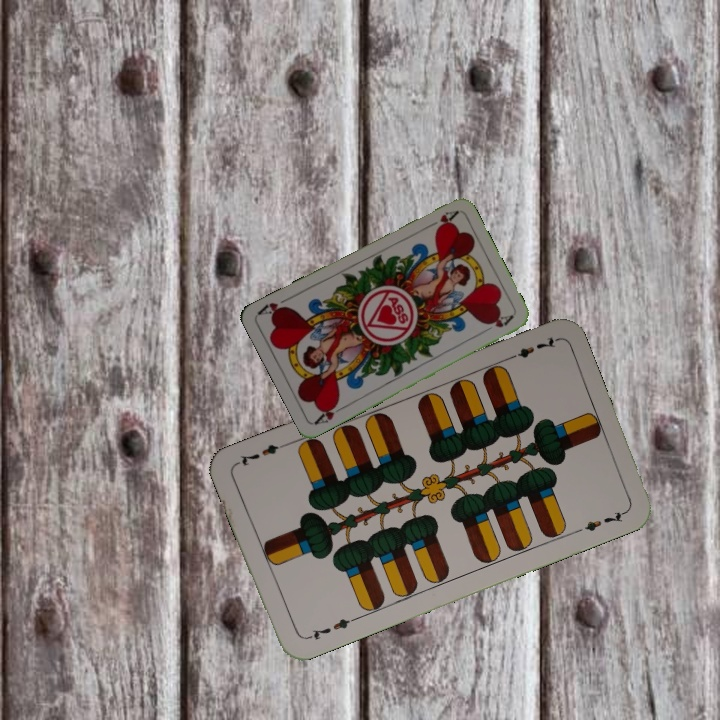E7: (503, 332, 559, 363), (301, 614, 358, 643)
HA: (311, 398, 349, 427), (422, 206, 460, 232)
